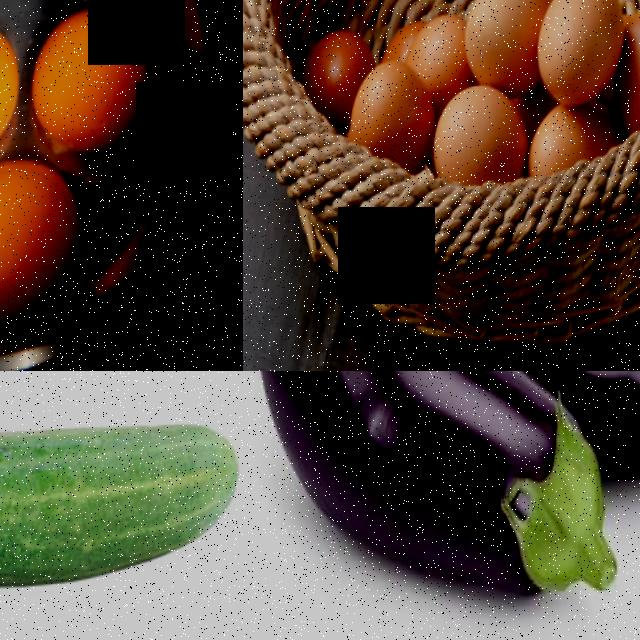cucumber: (0, 371, 243, 640)
egg_: (22, 1, 158, 172), (425, 81, 533, 199), (529, 0, 630, 121), (342, 58, 439, 170), (454, 0, 549, 93), (300, 28, 368, 121), (609, 9, 640, 144)
eggplant: (243, 371, 640, 640)
